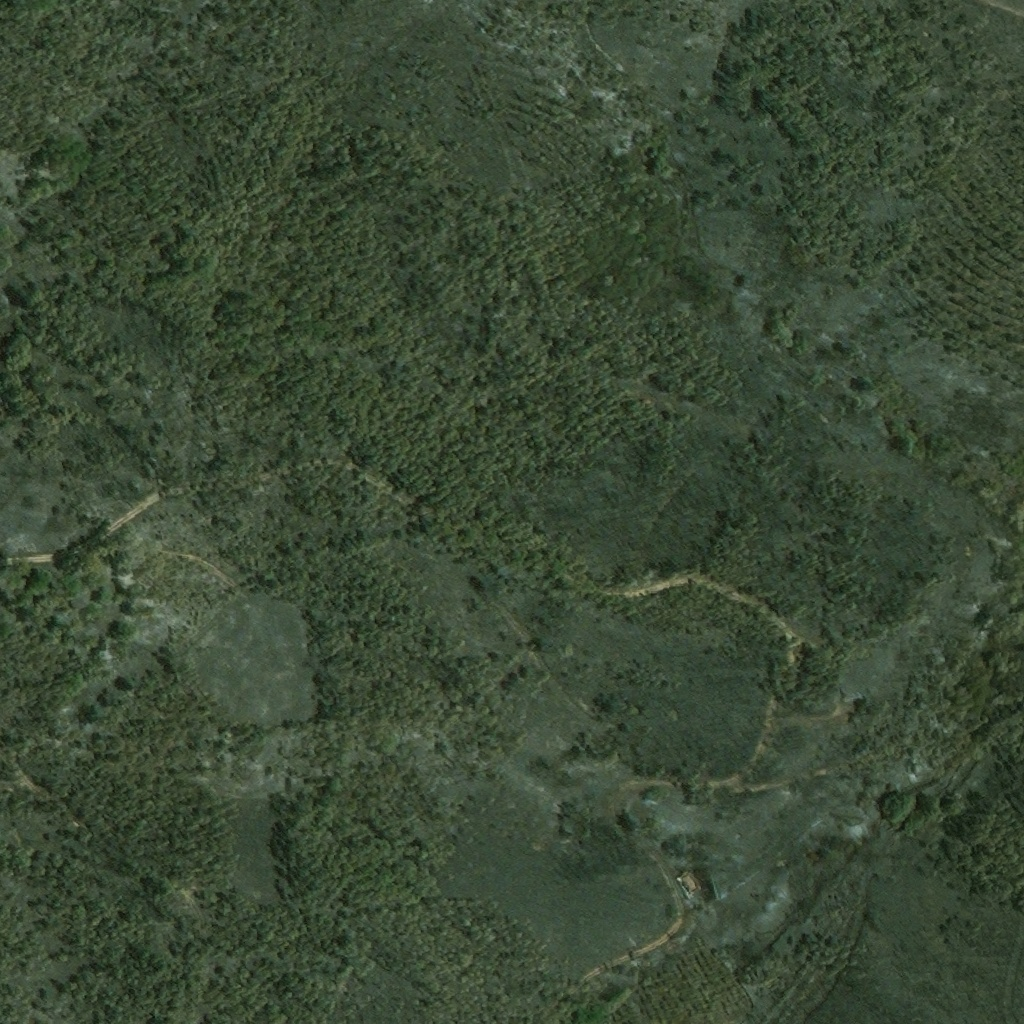1 minor-damage: (681, 873, 700, 894)
